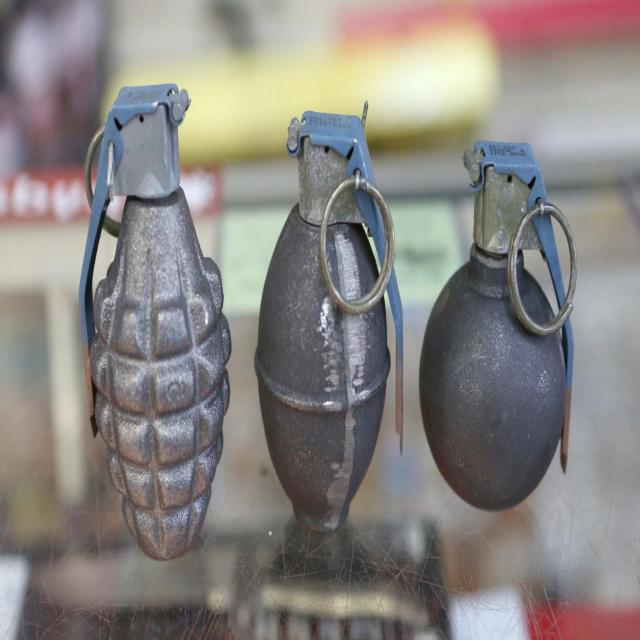grenade: (81, 84, 233, 563), (255, 102, 406, 537), (420, 143, 578, 511)
